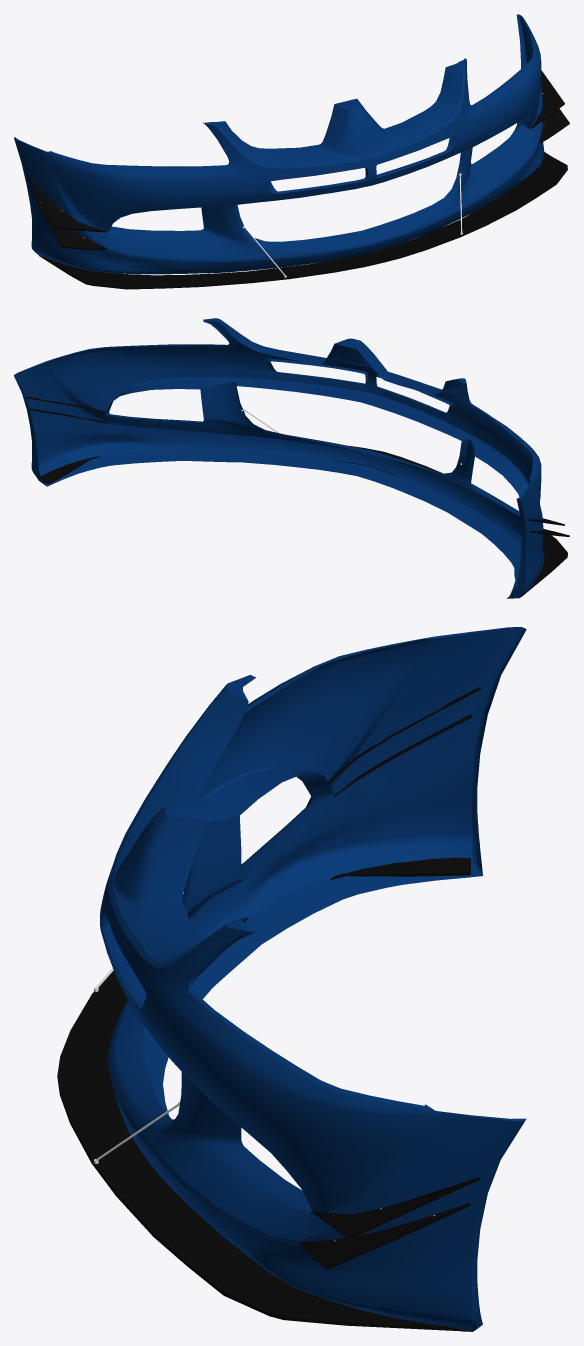
The model's file is fix.fbx.
The picture shows the model from 3 angles, top to bottom: view 1: azimuth 30°, elevation 25°; view 2: azimuth 150°, elevation 25°; view 3: azimuth 270°, elevation 25°; orthographic projection. The views are drawn at different scales.
Visible parts, largest first — view 1: Front Bumper 5; view 2: Front Bumper 5; view 3: Front Bumper 5.
Part boxes in pixels (<box>): Front Bumper 5: <box>14,14,569,289</box>; Front Bumper 5: <box>14,318,569,598</box>; Front Bumper 5: <box>57,627,526,1331</box>.
Bounding box in the file's own units: 1.74 × 0.4854 × 0.694.
